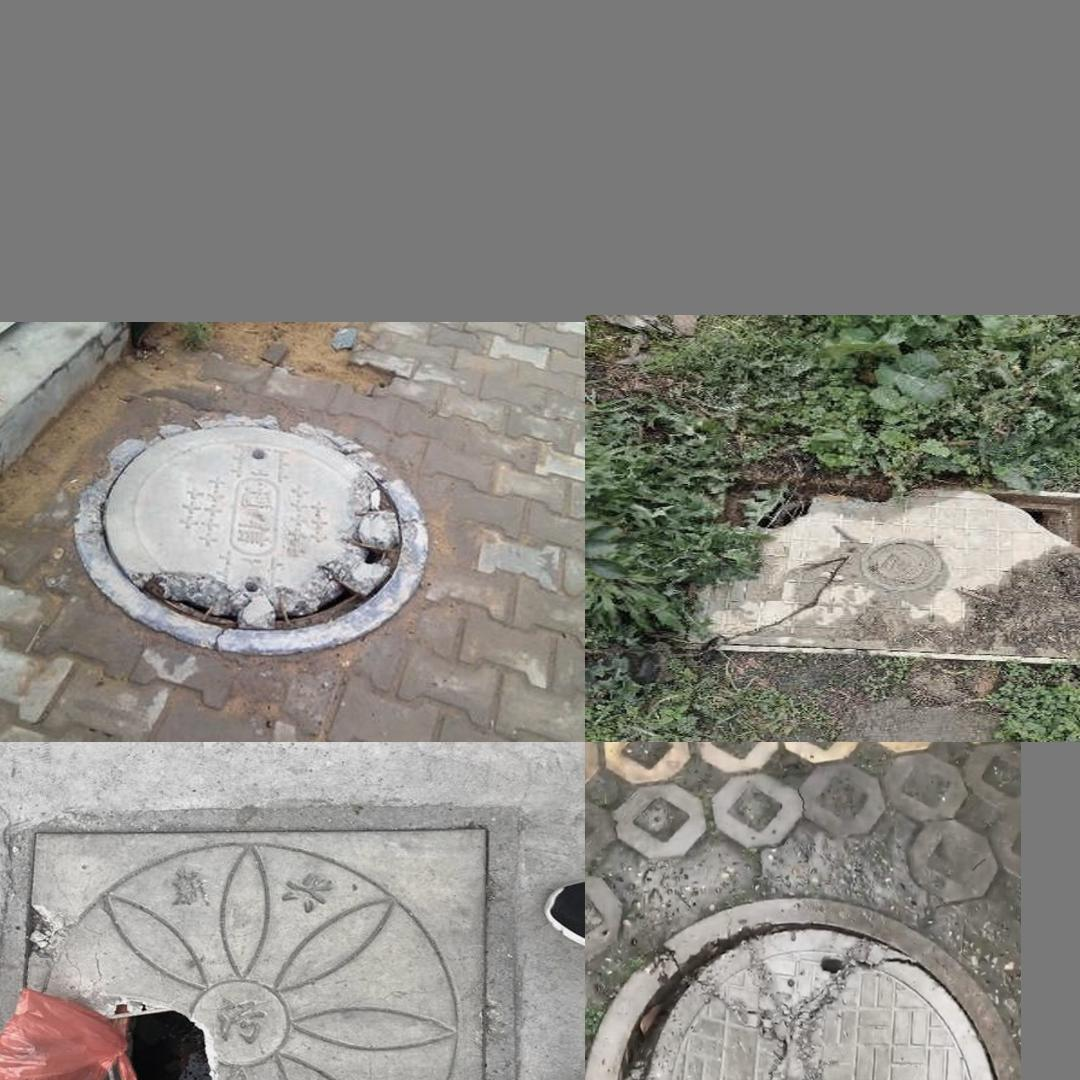broke: (0, 790, 529, 1080), (69, 408, 430, 651), (664, 480, 1080, 667), (614, 922, 1009, 1080)
